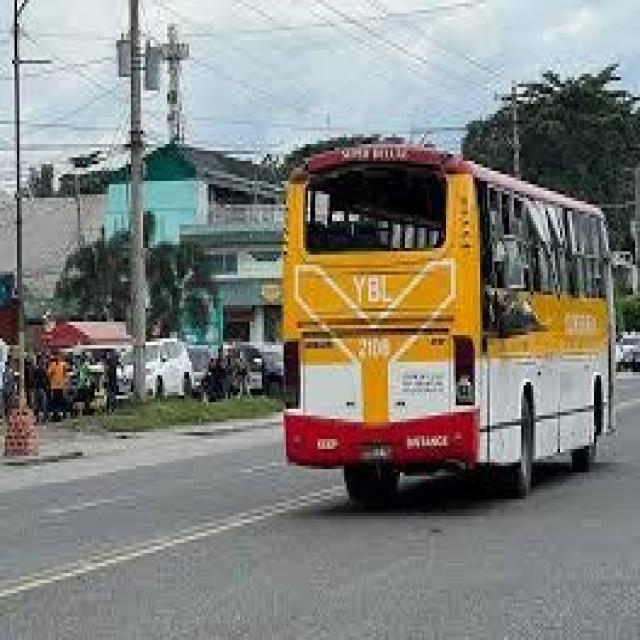bus: (268, 127, 626, 521)
